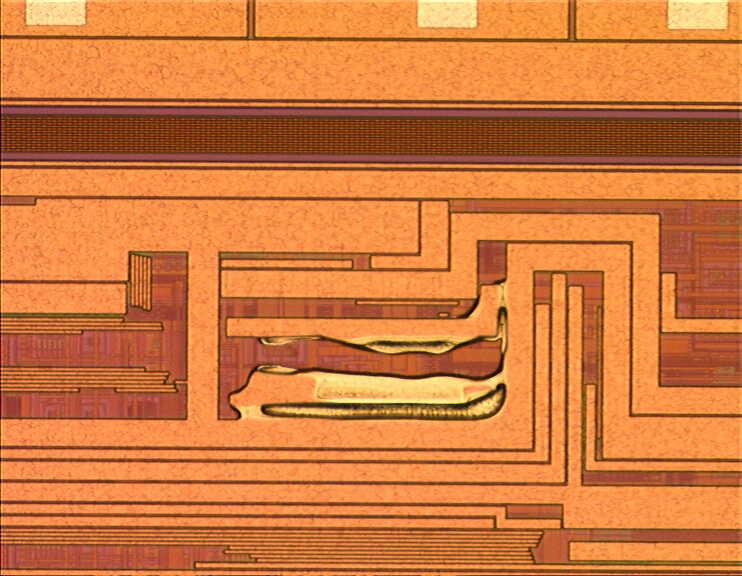BLOCK ETCH: (225, 284, 522, 425)
